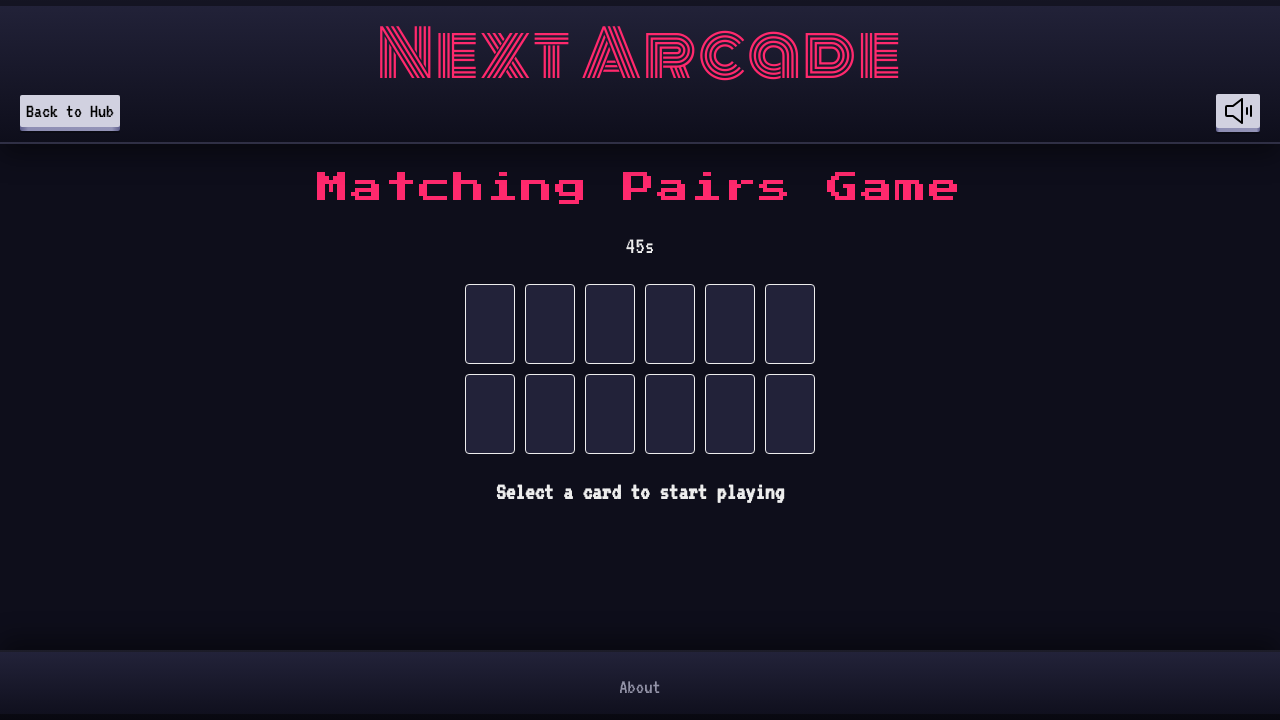
Test: Matching Pairs Game › flips cards back when they dont match
This screenshot has width=1280, height=720.
Click the 1st element with test id "mp-card".
click(490, 324)  # box [465,284,515,364]
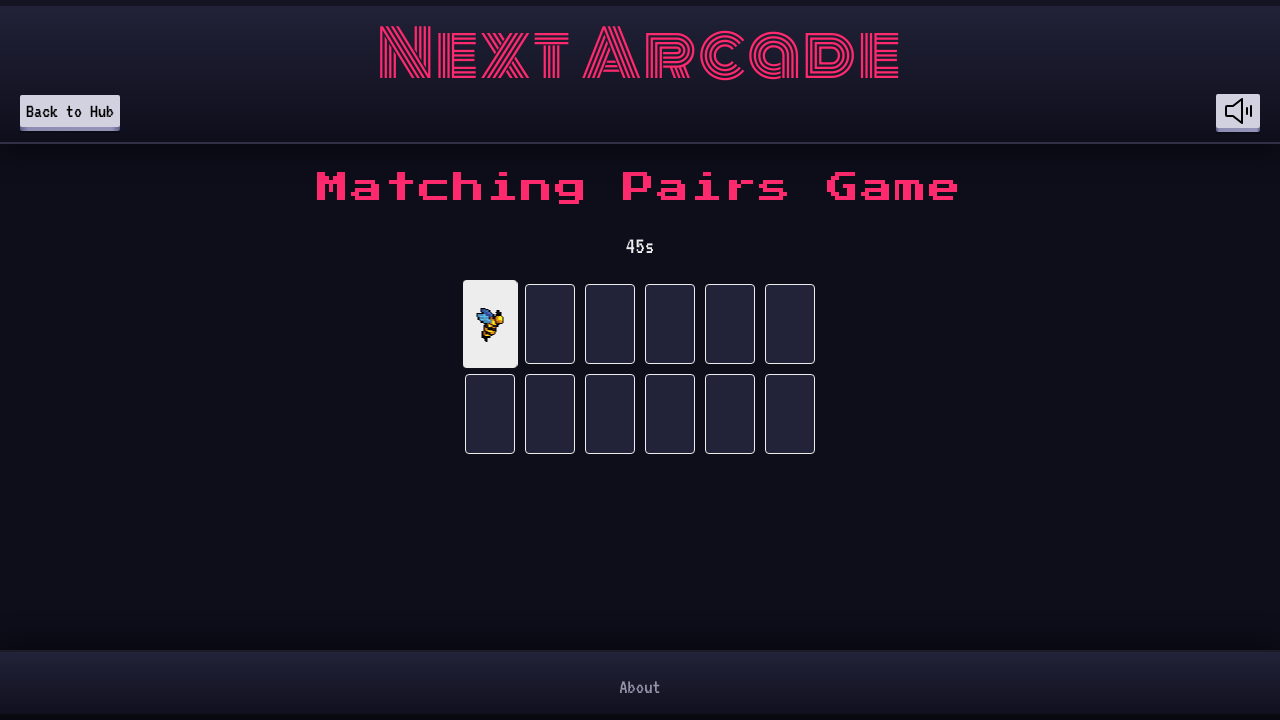
Click the 3rd element with test id "mp-card".
click(610, 324)  # box [585,284,635,364]
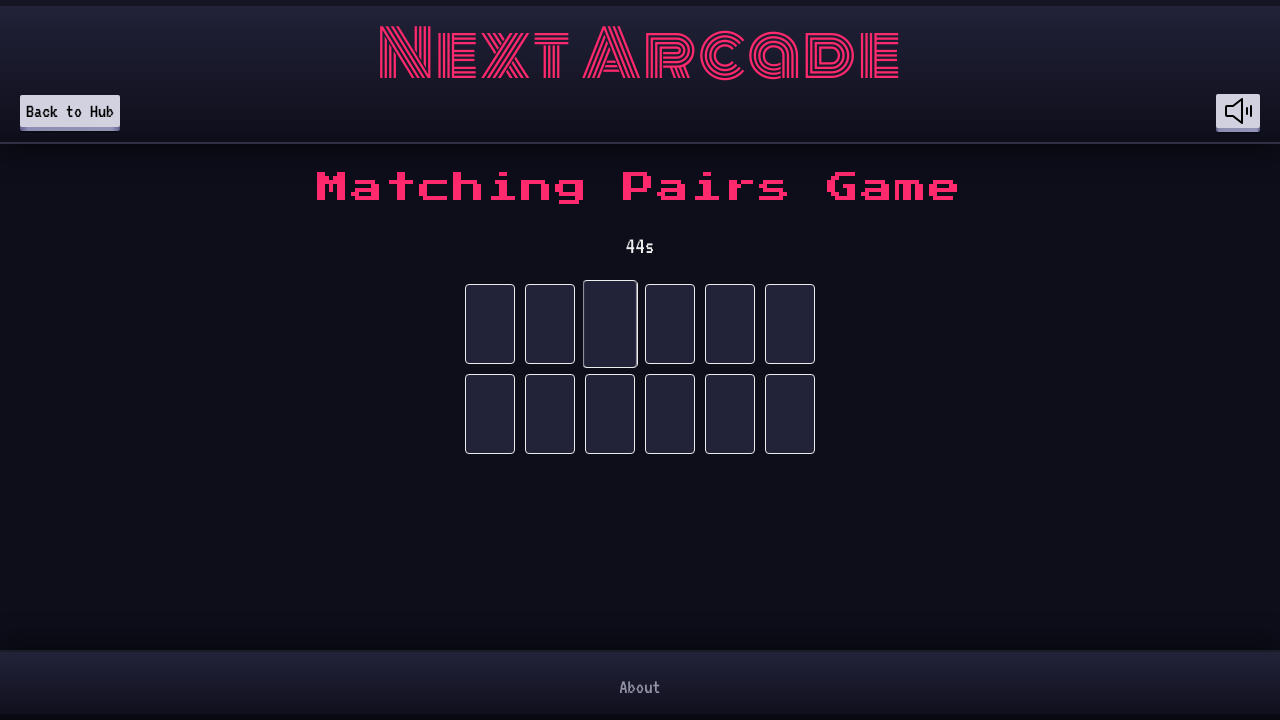
Expected: no pictures are shown
